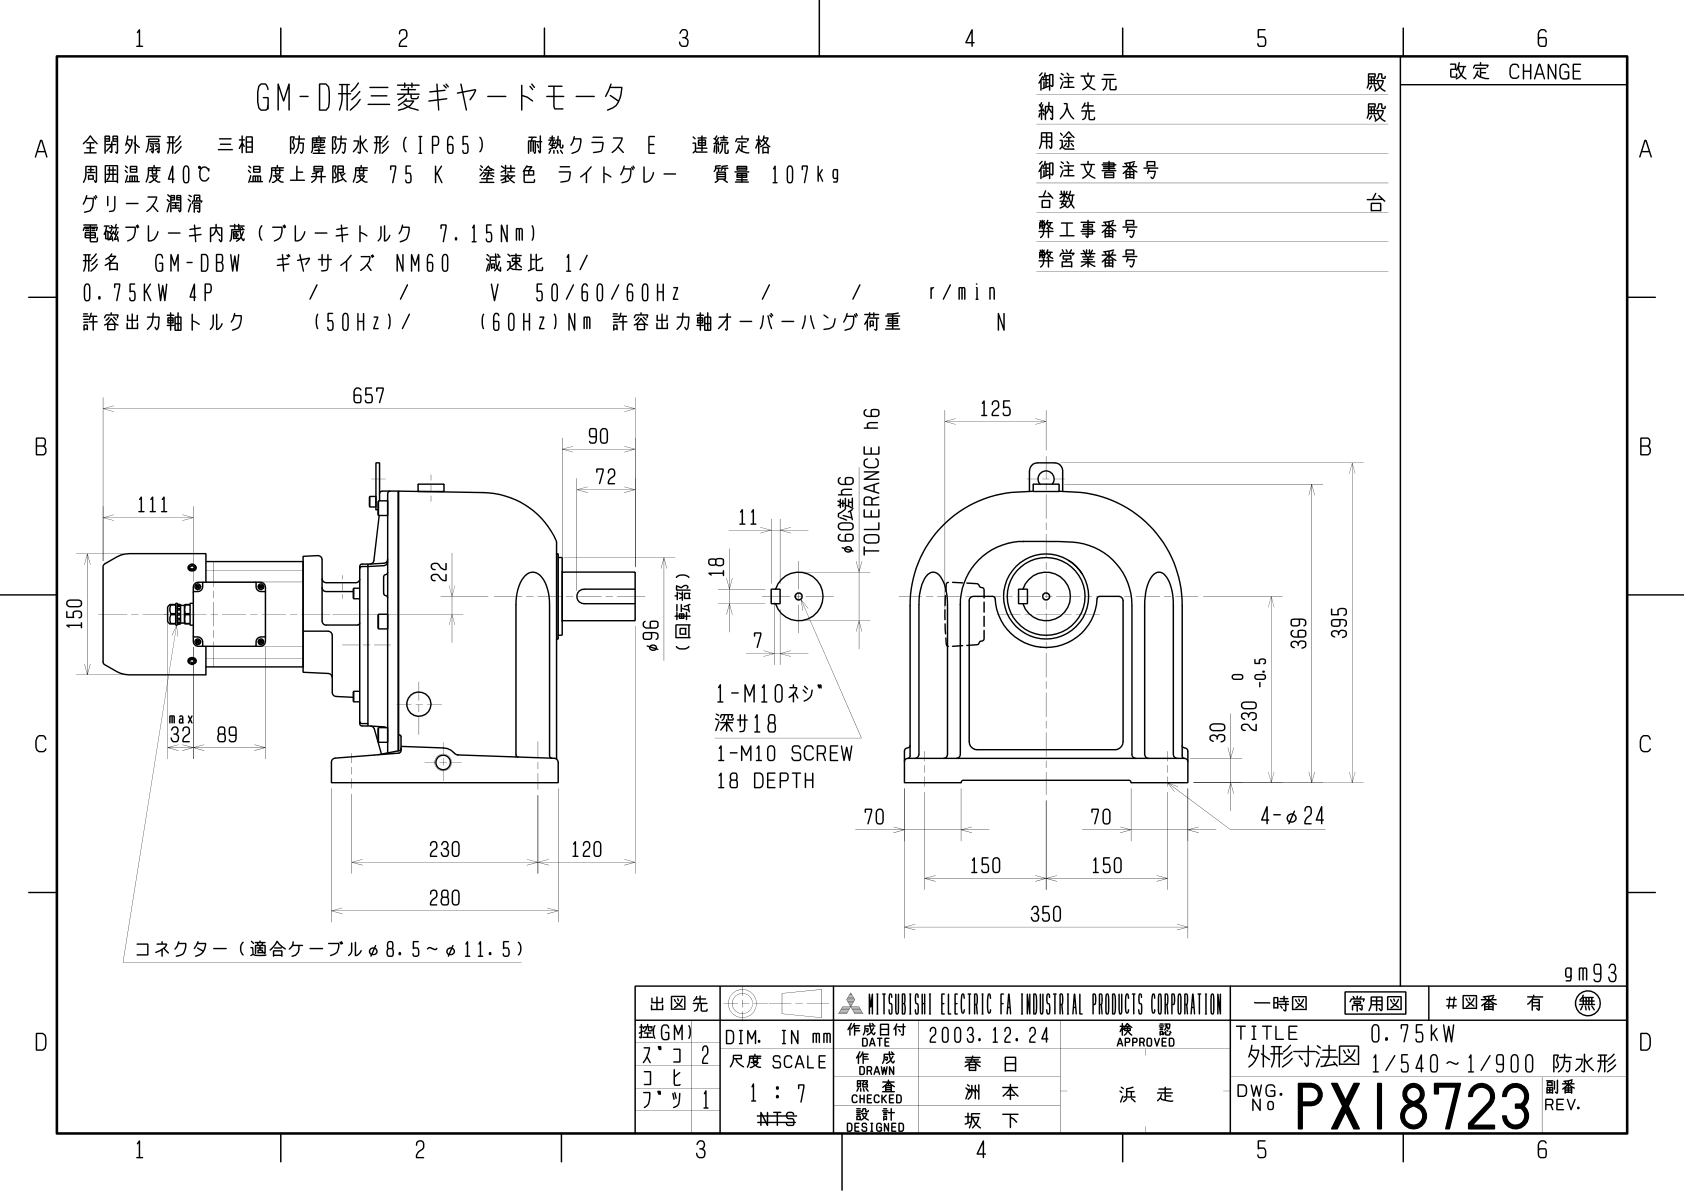GM_D_IP65_三相_脚: (64, 351, 1381, 973)
